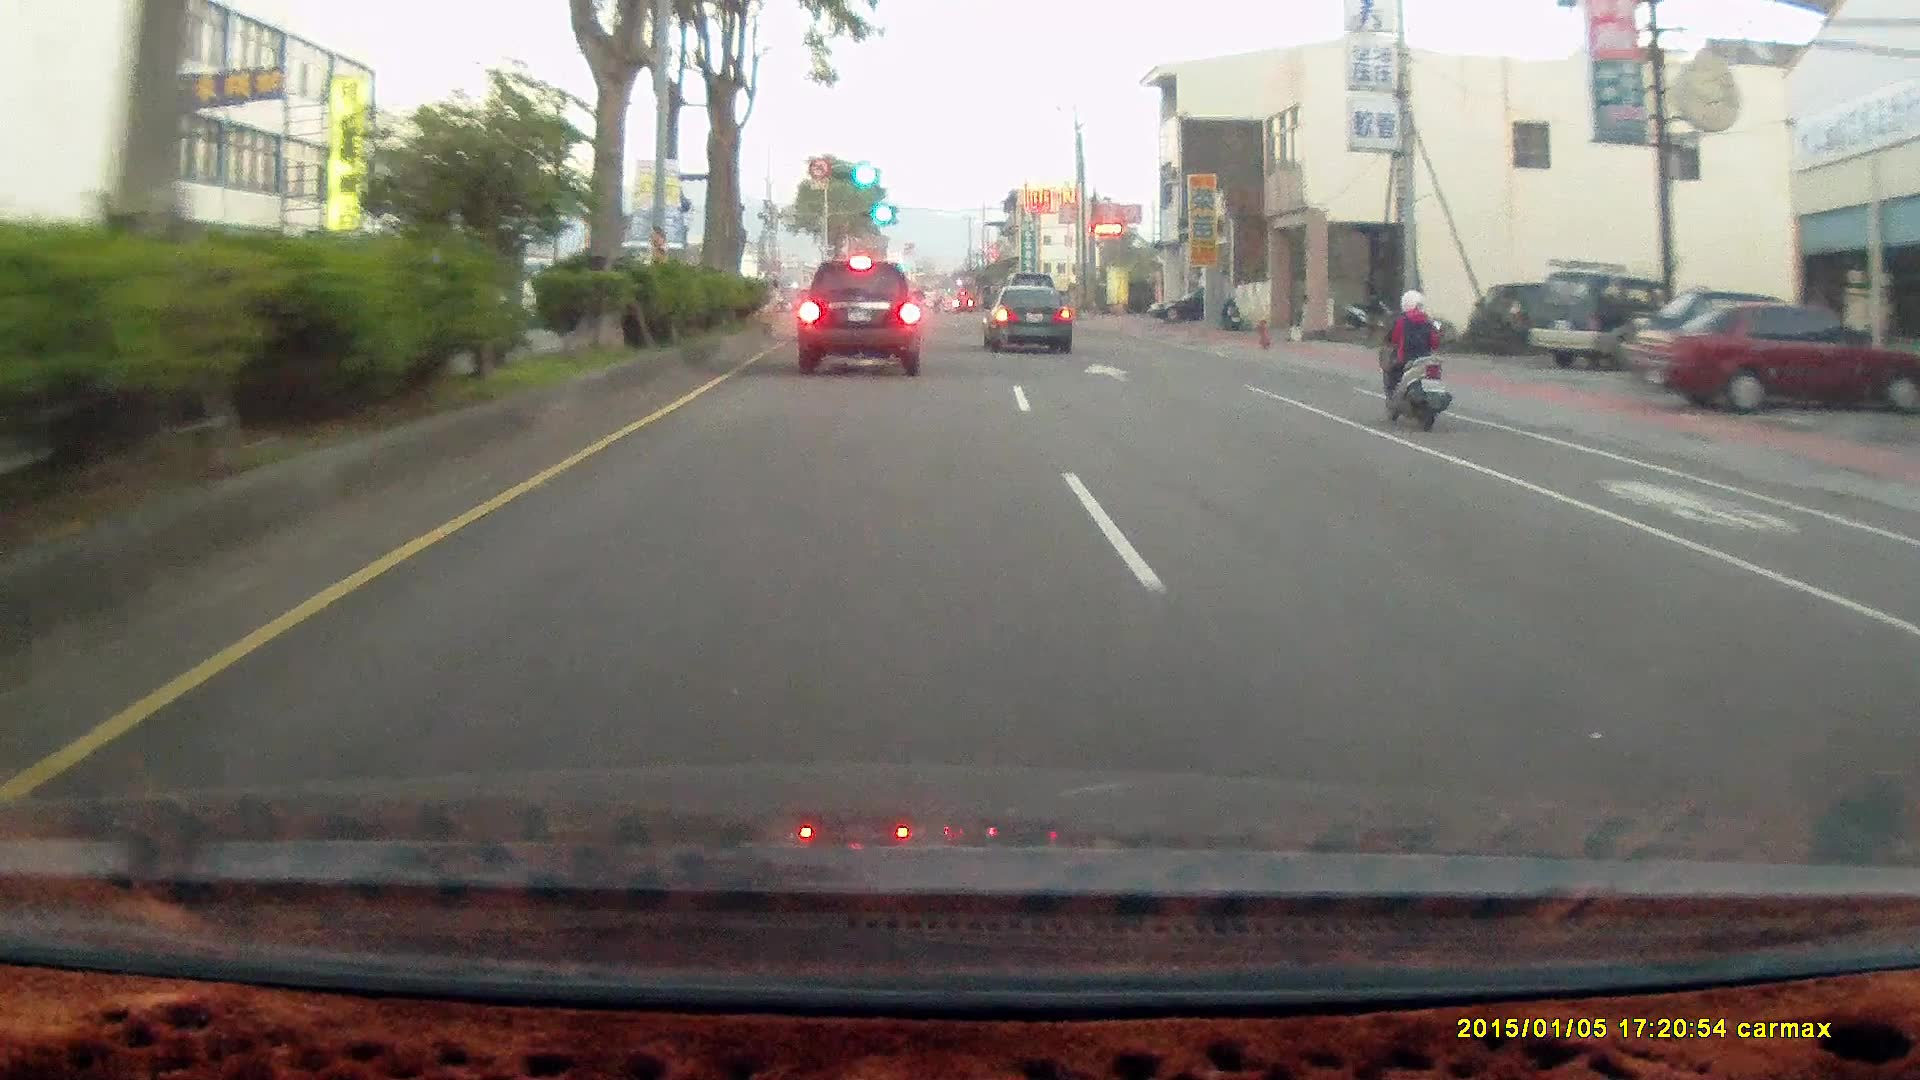rider: (1362, 278, 1463, 441), (1374, 284, 1451, 427)
vehicle: (1635, 297, 1920, 422), (1627, 302, 1920, 417), (1526, 271, 1689, 372), (1527, 268, 1678, 370), (801, 255, 926, 373), (797, 260, 924, 376), (1465, 282, 1563, 351), (983, 287, 1076, 354), (983, 283, 1072, 351), (1147, 288, 1236, 323), (1147, 288, 1205, 327)
